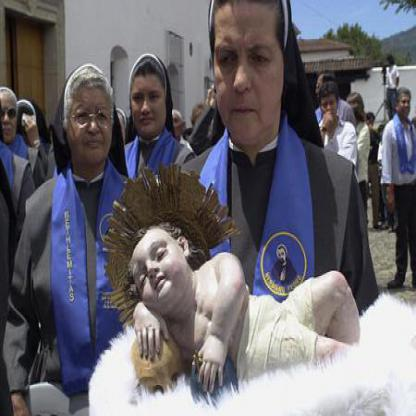face: (212, 1, 289, 145), (66, 68, 115, 167), (130, 223, 186, 309), (131, 58, 168, 139), (1, 90, 20, 144), (321, 86, 339, 123), (400, 90, 413, 119)
